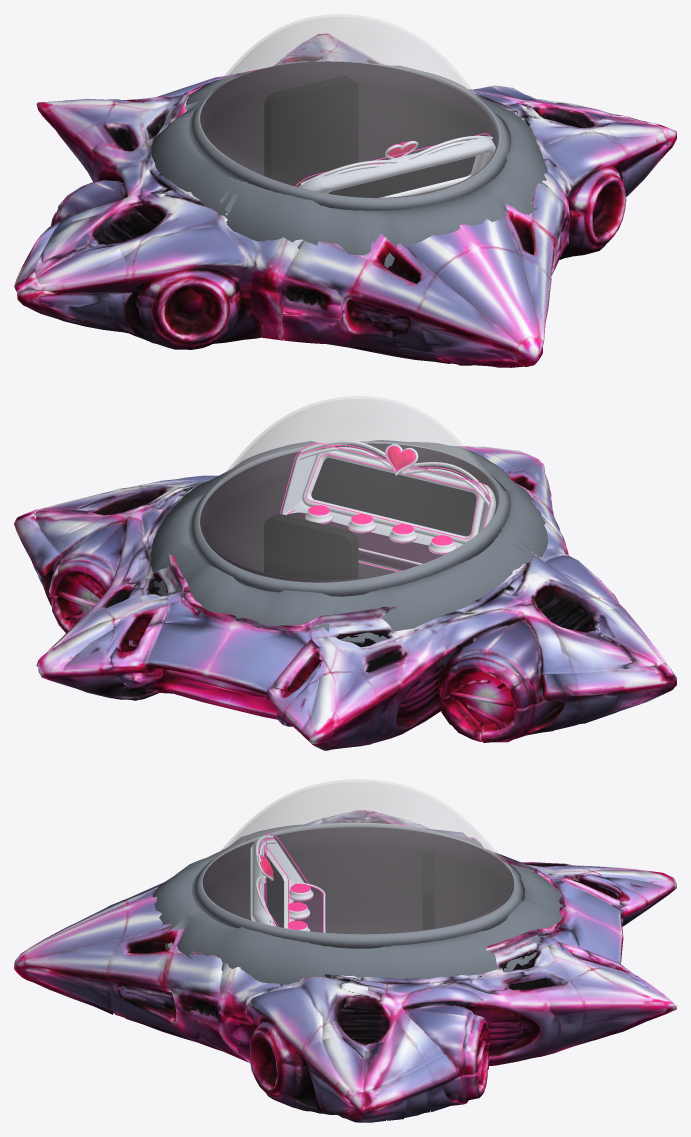
File: spaceship-blockout-v01.glb
3 views of the same model, one above another, from view 1: azimuth 30°, elevation 25°; view 2: azimuth 150°, elevation 25°; view 3: azimuth 270°, elevation 25° (orthographic). The views are drawn at different scales.
Parts seen in each view (by area): view 1: SHIP_HULL_COCKPIT_CLEARED.001, CANOPY_SLEEK_REFINED.001, COCKPIT_COLLAR_APRON.001, COCKPIT_TUB.001, SEAT_BLOCKOUT.001, COCKPIT_COLLAR_LIP.001, DASHBOARD_HOUSING.001, DASHBOARD_SCREEN_SURFACE.001, DASHBOARD_SCREEN_BEZEL.001; view 2: SHIP_HULL_COCKPIT_CLEARED.001, CANOPY_SLEEK_REFINED.001, COCKPIT_COLLAR_APRON.001, COCKPIT_TUB.001, DASHBOARD_SCREEN_SURFACE.001, COCKPIT_COLLAR_LIP.001, SEAT_BLOCKOUT.001, DASHBOARD_SCREEN_BEZEL.001, DASHBOARD_HOUSING.001, DASHBOARD_CONTROL_DECK.001, DASHBOARD_LIGHT_SEAMS.001, DASHBOARD_CHROME_FLOURISH_LEFT.001 (+1 smaller); view 3: SHIP_HULL_COCKPIT_CLEARED.001, CANOPY_SLEEK_REFINED.001, COCKPIT_TUB.001, COCKPIT_COLLAR_APRON.001, COCKPIT_COLLAR_LIP.001, DASHBOARD_HOUSING.001, SEAT_BLOCKOUT.001, DASHBOARD_SCREEN_SURFACE.001, DASHBOARD_LIGHT_SEAMS.001, DASHBOARD_CONTROL_DECK.001.
Part boxes in pixels (x1,y1,x2,y2): SHIP_HULL_COCKPIT_CLEARED.001: (14, 33, 676, 367); CANOPY_SLEEK_REFINED.001: (198, 14, 500, 197); COCKPIT_COLLAR_APRON.001: (150, 61, 547, 268); COCKPIT_TUB.001: (200, 61, 498, 305); SEAT_BLOCKOUT.001: (264, 75, 358, 186); COCKPIT_COLLAR_LIP.001: (188, 62, 511, 210); DASHBOARD_HOUSING.001: (298, 136, 495, 193); DASHBOARD_SCREEN_SURFACE.001: (328, 156, 475, 197); DASHBOARD_SCREEN_BEZEL.001: (379, 154, 486, 197); SHIP_HULL_COCKPIT_CLEARED.001: (14, 445, 676, 750); CANOPY_SLEEK_REFINED.001: (199, 396, 499, 582); COCKPIT_COLLAR_APRON.001: (150, 440, 547, 643); COCKPIT_TUB.001: (200, 443, 498, 582); DASHBOARD_SCREEN_SURFACE.001: (311, 457, 476, 536); COCKPIT_COLLAR_LIP.001: (188, 441, 510, 596); SEAT_BLOCKOUT.001: (264, 513, 358, 579); DASHBOARD_SCREEN_BEZEL.001: (302, 451, 485, 544); DASHBOARD_HOUSING.001: (281, 443, 495, 571); DASHBOARD_CONTROL_DECK.001: (287, 512, 443, 570); DASHBOARD_LIGHT_SEAMS.001: (280, 442, 491, 571); DASHBOARD_CHROME_FLOURISH_LEFT.001: (298, 440, 393, 470); SHIP_HULL_COCKPIT_CLEARED.001: (14, 810, 676, 1122); CANOPY_SLEEK_REFINED.001: (201, 779, 515, 934); COCKPIT_TUB.001: (202, 827, 513, 1029); COCKPIT_COLLAR_APRON.001: (152, 824, 565, 984); COCKPIT_COLLAR_LIP.001: (191, 822, 524, 948); DASHBOARD_HOUSING.001: (250, 835, 304, 926); SEAT_BLOCKOUT.001: (422, 852, 434, 930); DASHBOARD_SCREEN_SURFACE.001: (264, 852, 283, 927); DASHBOARD_LIGHT_SEAMS.001: (259, 833, 323, 932); DASHBOARD_CONTROL_DECK.001: (293, 886, 322, 932).
Size of the model in its own units: 0.9782 by 0.3546 by 0.9246.
14 materials, 1 textured.
